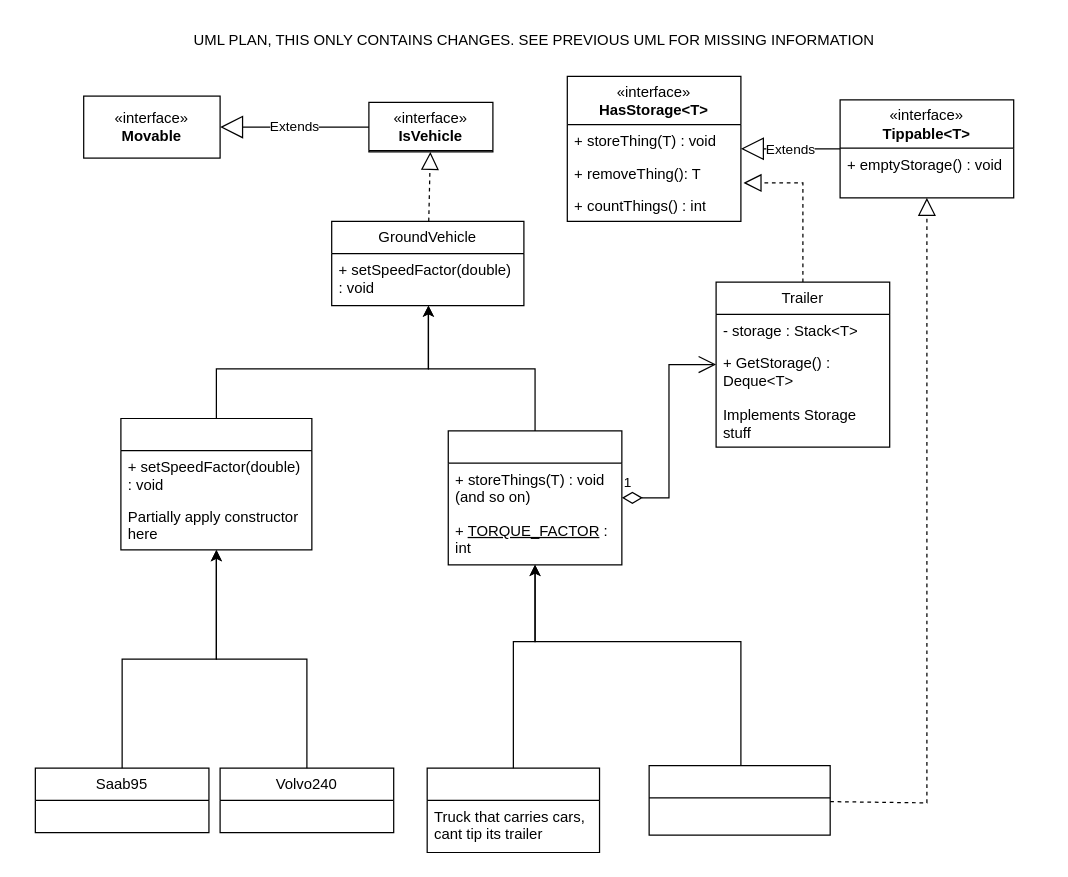
This 1068x877 diagram has some shape labels left out. Each missing label, with the box of its shape:
NormalCar: (120, 417, 312, 550)
ScaniaV8: (648, 764, 830, 835)
Truck: (447, 430, 622, 565)
VolvoFL: (426, 767, 600, 852)
